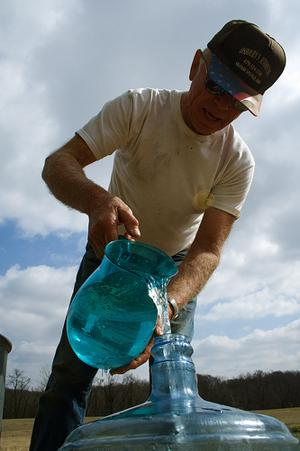person: (29, 21, 285, 450)
